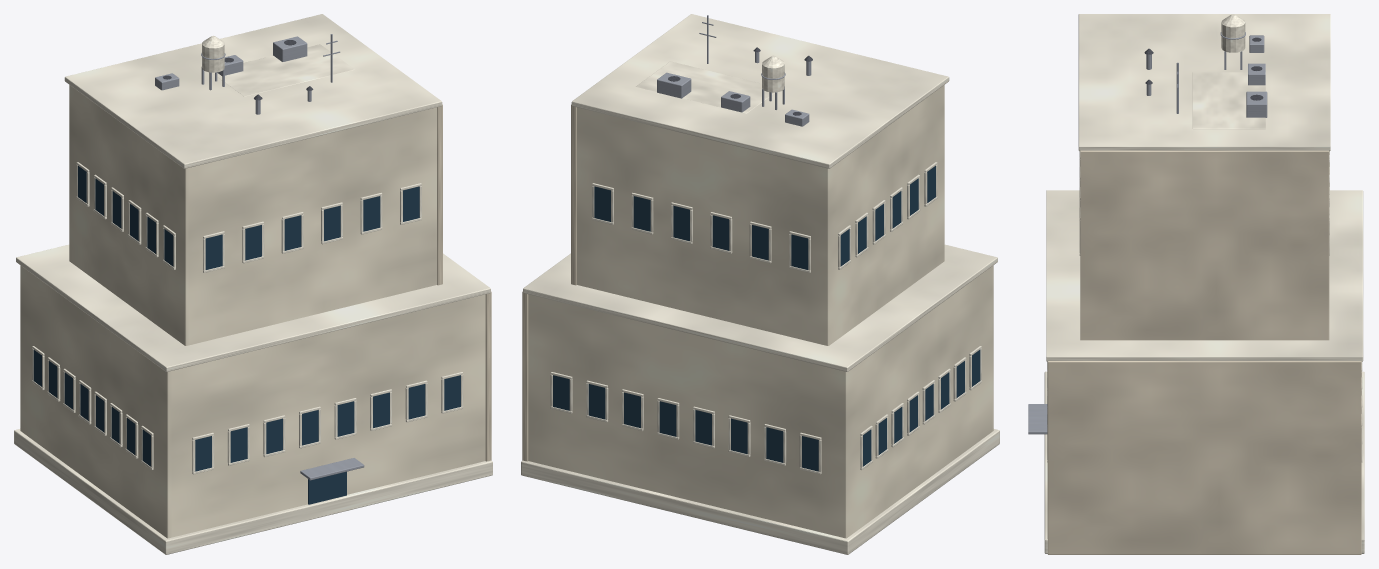
Rendered from bldg_cream_block.glb.
The picture shows the model from 3 angles, left to right: view 1: azimuth 30°, elevation 25°; view 2: azimuth 150°, elevation 25°; view 3: azimuth 270°, elevation 25°; orthographic projection. The views are drawn at different scales.
Visible parts, largest first — view 1: bldg_cream_block_band_0_wall, bldg_cream_block_band_1_wall, bldg_cream_block_band_1_cornice, bldg_cream_block_band_0_cornice, bldg_cream_block_plinth, bldg_cream_block_roof_curb, bldg_cream_block_band_0_pilaster, bldg_cream_block_band_1_pilaster, bldg_cream_block_entrance, bldg_cream_block_canopy, bldg_cream_block_ac_2_case, bldg_cream_block_band_0_back_6_glass (+5 smaller); view 2: bldg_cream_block_band_0_wall, bldg_cream_block_band_1_wall, bldg_cream_block_band_1_cornice, bldg_cream_block_band_0_cornice, bldg_cream_block_plinth, bldg_cream_block_roof_curb, bldg_cream_block_band_0_pilaster, bldg_cream_block_band_1_pilaster, bldg_cream_block_ac_2_case, bldg_cream_block_band_0_front_6_glass, bldg_cream_block_band_0_front_1_glass, bldg_cream_block_band_0_front_4_glass (+3 smaller); view 3: bldg_cream_block_band_0_pilaster, bldg_cream_block_band_1_pilaster, bldg_cream_block_band_1_cornice, bldg_cream_block_band_0_cornice, bldg_cream_block_roof_curb, bldg_cream_block_plinth, bldg_cream_block_tank_a_barrel, bldg_cream_block_canopy, bldg_cream_block_ac_2_case.
Part boxes in pixels (x1,y1,x2,y2): bldg_cream_block_band_0_wall: (20,265,485,538); bldg_cream_block_band_1_wall: (69,85,436,345); bldg_cream_block_band_1_cornice: (64,14,442,168); bldg_cream_block_band_0_cornice: (16,244,490,371); bldg_cream_block_plinth: (14,429,492,554); bldg_cream_block_roof_curb: (212,44,354,96); bldg_cream_block_band_0_pilaster: (485,291,491,461); bldg_cream_block_band_1_pilaster: (437,104,442,285); bldg_cream_block_entrance: (308,471,346,504); bldg_cream_block_canopy: (300,458,364,480); bldg_cream_block_ac_2_case: (273,36,307,61); bldg_cream_block_band_0_back_6_glass: (408,384,425,419); bldg_cream_block_band_0_wall: (528,265,993,538); bldg_cream_block_band_1_wall: (577,85,944,345); bldg_cream_block_band_1_cornice: (571,14,949,168); bldg_cream_block_band_0_cornice: (523,244,997,371); bldg_cream_block_plinth: (521,429,999,554); bldg_cream_block_roof_curb: (636,61,774,113); bldg_cream_block_band_0_pilaster: (522,291,528,461); bldg_cream_block_band_1_pilaster: (571,104,576,285); bldg_cream_block_ac_2_case: (657,72,691,98); bldg_cream_block_band_0_front_6_glass: (588,384,605,419); bldg_cream_block_band_0_front_1_glass: (766,427,783,462); bldg_cream_block_band_0_front_4_glass: (659,401,676,436); bldg_cream_block_band_0_pilaster: (1047,361,1361,554); bldg_cream_block_band_1_pilaster: (1080,150,1329,340); bldg_cream_block_band_1_cornice: (1078,14,1330,151); bldg_cream_block_band_0_cornice: (1046,190,1363,361); bldg_cream_block_roof_curb: (1192,72,1265,129); bldg_cream_block_plinth: (1044,371,1364,553); bldg_cream_block_tank_a_barrel: (1221,23,1245,52); bldg_cream_block_canopy: (1028,404,1047,434); bldg_cream_block_ac_2_case: (1246,91,1267,117).
Bounding box in the file's own units: 20.51 × 25.17 × 17.35.
6 materials, 6 textured.
